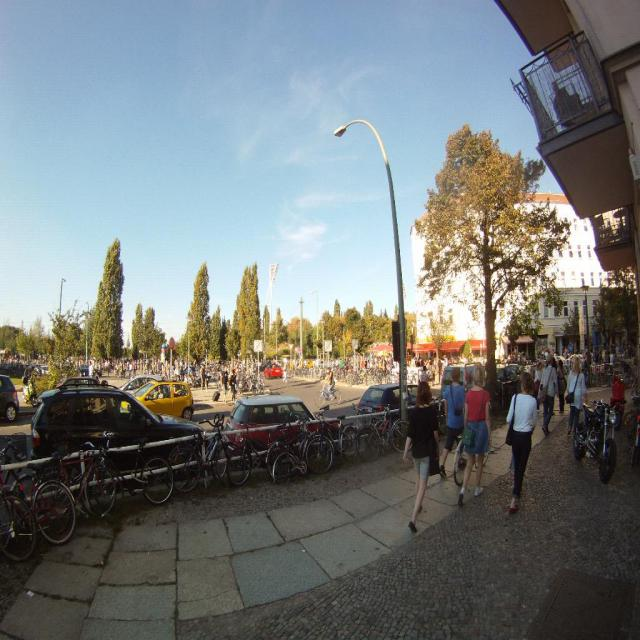other: (26, 374, 202, 456), (225, 394, 338, 449), (120, 380, 192, 420), (356, 383, 416, 417), (0, 372, 20, 420), (264, 364, 282, 378)
